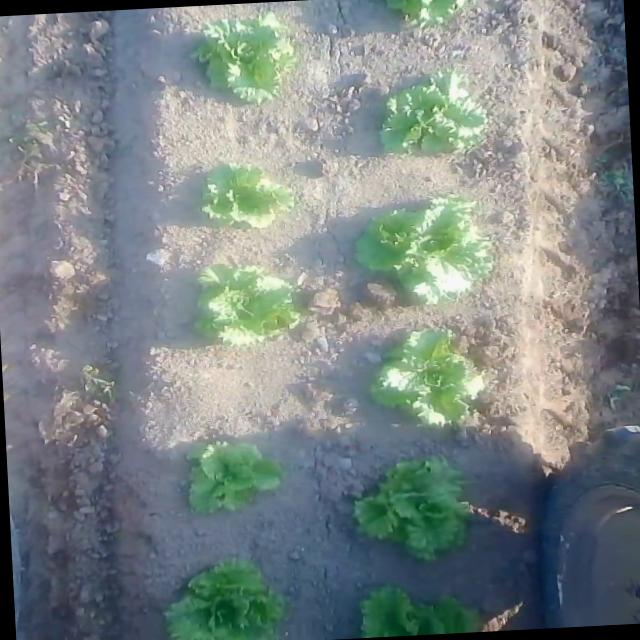Lettuce-Ready-to-Harvest: (354, 192, 496, 310), (353, 454, 472, 564), (368, 326, 487, 432), (194, 258, 303, 348), (184, 438, 284, 518), (199, 159, 296, 236)
